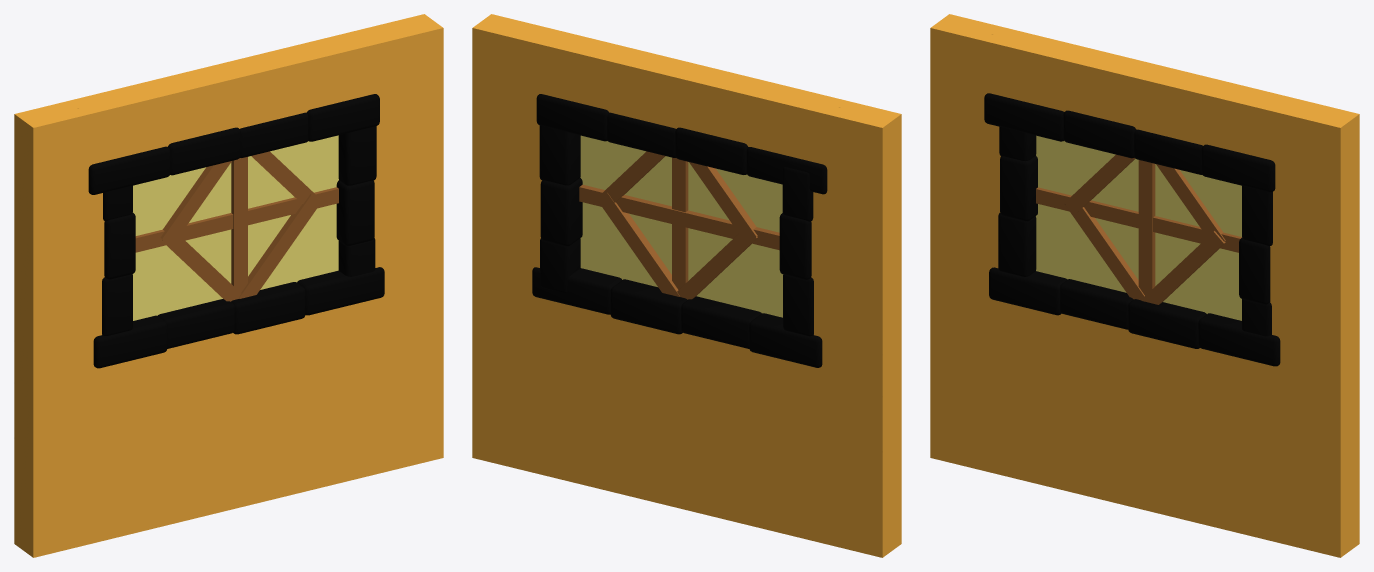
The model's file is Wall 9.fbx.
3 renders of one model, left to right at view 1: azimuth 30°, elevation 25°; view 2: azimuth 150°, elevation 25°; view 3: azimuth 330°, elevation 25°, orthographic.
Visible parts, largest first — view 1: Wall 9; view 2: Wall 9; view 3: Wall 9.
Part boxes in pixels (box(x1,y1,x2,y2)): Wall 9: box(14, 14, 443, 557); Wall 9: box(472, 14, 901, 557); Wall 9: box(930, 14, 1359, 557).
Size of the model in its own units: 249 by 249 by 26.94.
1 material, 1 textured.
